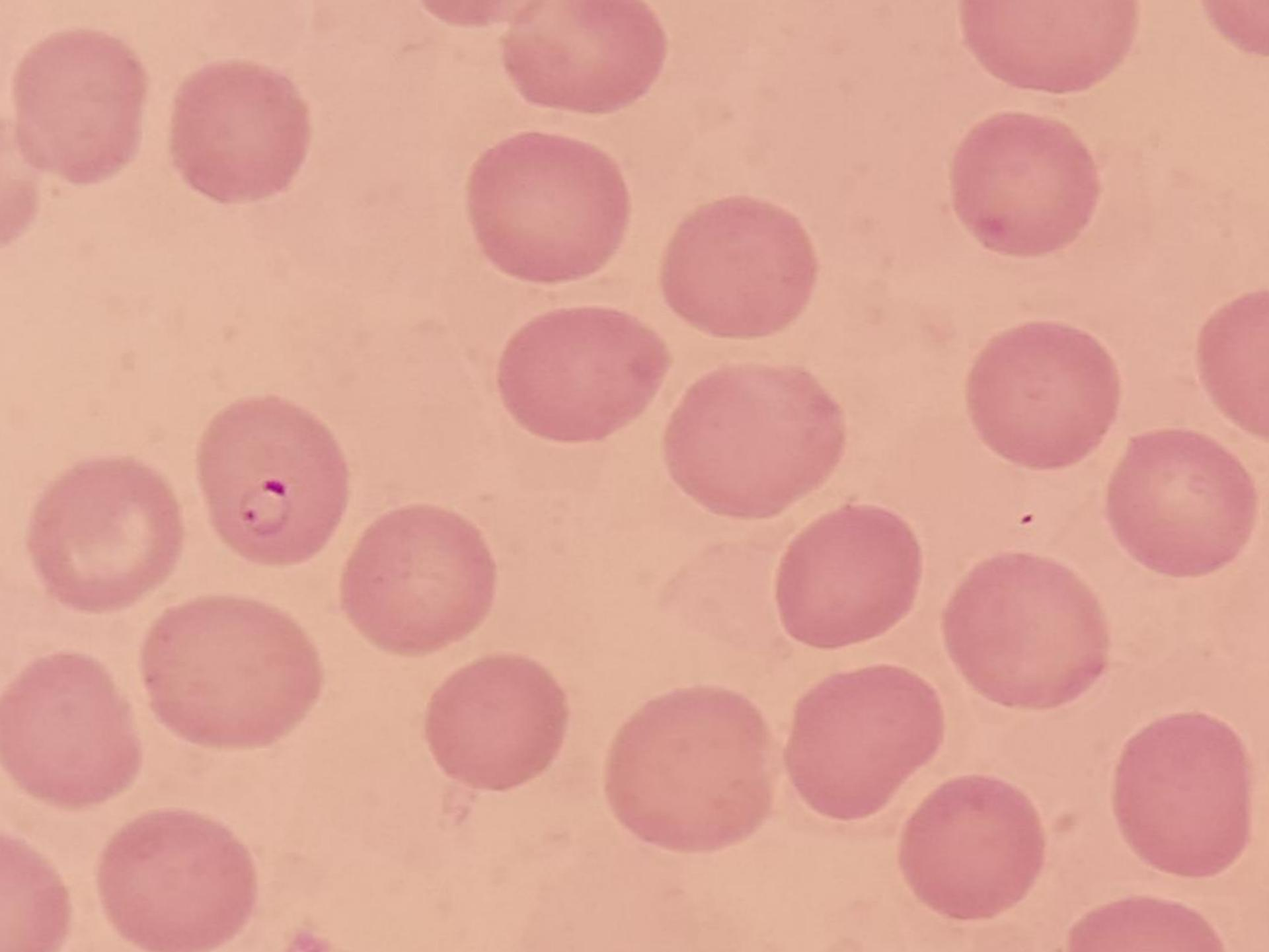Infected: (192, 397, 350, 572)
Uninfected: (601, 681, 779, 849), (139, 600, 328, 748), (659, 366, 841, 505), (950, 553, 1110, 710), (967, 316, 1120, 472), (945, 111, 1102, 263), (493, 309, 665, 444), (787, 666, 939, 818), (899, 769, 1048, 924), (346, 505, 502, 652), (467, 133, 625, 278), (1110, 712, 1254, 871), (33, 450, 180, 605), (90, 811, 261, 943), (771, 503, 923, 651), (0, 655, 146, 809), (659, 197, 816, 338), (1106, 435, 1254, 580), (427, 648, 569, 790), (170, 56, 305, 200), (20, 25, 140, 187), (512, 0, 665, 113), (958, 0, 1138, 87)
